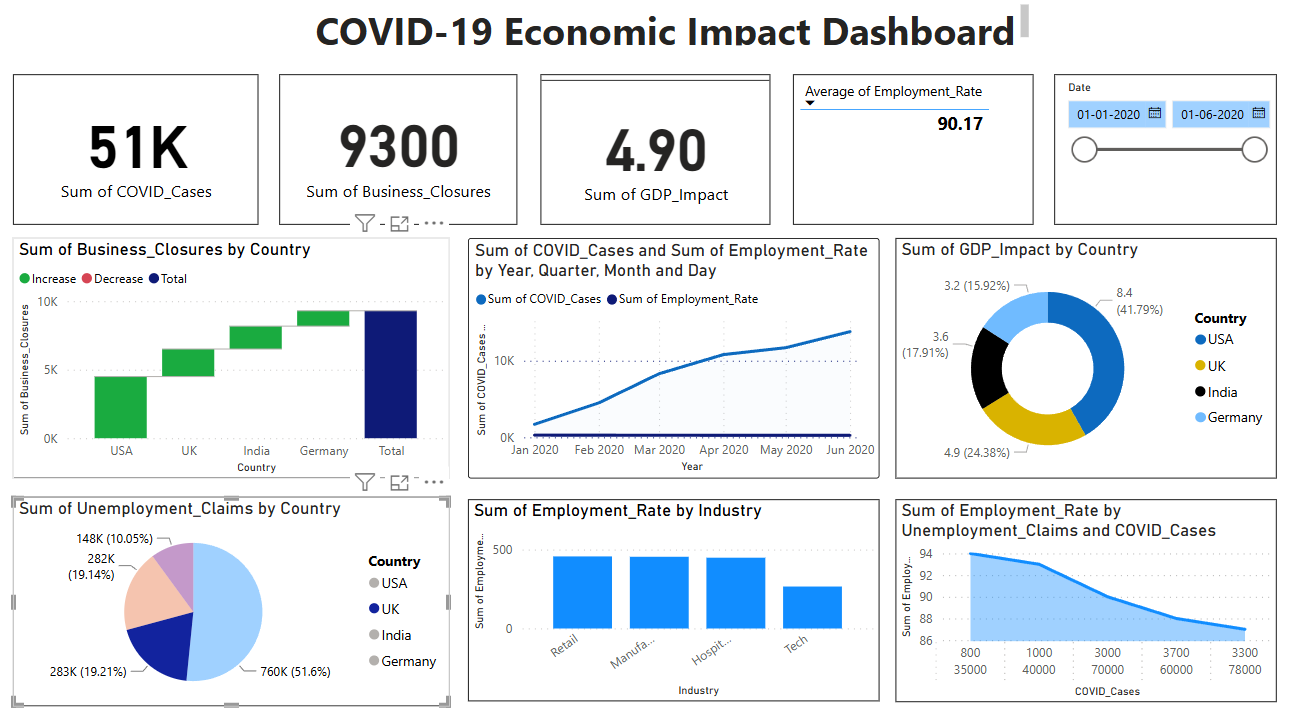

Layout of this report page (visuals, bound fields, positions):
{"tool":"powerbi","page":{"name":"Page 1","canvas":[1280,720],"ordinal":0},"visuals":[{"type":"card","fields":{"Values":["Sum(Sheet1.Business_Closures)"]},"box":[280,80,232.5,147.5],"z":0},{"type":"card","fields":{"Values":["Sum(Sheet1.COVID_Cases)"]},"box":[20,80,240,147.5],"z":1000},{"type":"tableEx","fields":{"Values":["Avg(Sheet1.Employment_Rate)"]},"box":[782.5,80,235,147.5],"z":2000},{"type":"areaChart","fields":{"Category":["Sheet1.Date.Variation.Date Hierarchy.Year","Sheet1.Date.Variation.Date Hierarchy.Quarter","Sheet1.Date.Variation.Date Hierarchy.Month","Sheet1.Date.Variation.Date Hierarchy.Day"],"Y":["Sum(Sheet1.COVID_Cases)","Sum(Sheet1.Employment_Rate)"]},"box":[465,240,402.5,235],"z":3000},{"type":"columnChart","fields":{"Category":["Sheet1.Industry"],"Y":["Sum(Sheet1.Employment_Rate)"]},"box":[465,495,402.5,197.5],"z":4000},{"type":"waterfallChart","fields":{"Category":["Sheet1.Country"],"Y":["Sum(Sheet1.Business_Closures)"]},"box":[20,240,427.5,235],"z":5000},{"type":"donutChart","fields":{"Category":["Sheet1.Country"],"Y":["Sum(Sheet1.GDP_Impact)"]},"box":[882.5,240,372.5,235],"z":6000},{"type":"slicer","fields":{"Values":["Sheet1.Date"]},"box":[1037.5,80,217.5,147.5],"z":7000},{"type":"textbox","box":[310,0,707.5,55],"z":8000},{"type":"pieChart","fields":{"Category":["Sheet1 (2).Country"],"Y":["Sum(Sheet1 (2).Unemployment_Claims)"]},"box":[20,492.5,427.5,205],"z":9000},{"type":"card","fields":{"Values":["Sum(Sheet1 (2).GDP_Impact)"]},"box":[535,80,225,147.5],"z":10000},{"type":"stackedAreaChart","fields":{"Category":["Sheet1 (2).Unemployment_Claims","Sheet1 (2).COVID_Cases"],"Y":["Sum(Sheet1 (2).Employment_Rate)"]},"box":[883,495,373,198],"z":11000}]}

Visuals, with their boxes in screenshot pixels (x1, y1, x2, y2), scaled from the page's 1280x720 canvas onto the 1301x727 screenshot:
card - Sum(Sheet1.Business_Closures): region(285, 81, 521, 230)
card - Sum(Sheet1.COVID_Cases): region(20, 81, 264, 230)
tableEx - Avg(Sheet1.Employment_Rate): region(795, 81, 1034, 230)
areaChart - Sheet1.Date.Variation.Date Hierarchy.Year x Sheet1.Date.Variation.Date Hierarchy.Quarter: region(473, 242, 882, 480)
columnChart - Sheet1.Industry x Sum(Sheet1.Employment_Rate): region(473, 500, 882, 699)
waterfallChart - Sheet1.Country x Sum(Sheet1.Business_Closures): region(20, 242, 455, 480)
donutChart - Sheet1.Country x Sum(Sheet1.GDP_Impact): region(897, 242, 1276, 480)
slicer - Sheet1.Date: region(1055, 81, 1276, 230)
textbox: region(315, 0, 1034, 56)
pieChart - Sheet1 (2).Country x Sum(Sheet1 (2).Unemployment_Claims): region(20, 497, 455, 704)
card - Sum(Sheet1 (2).GDP_Impact): region(544, 81, 772, 230)
stackedAreaChart - Sheet1 (2).Unemployment_Claims x Sheet1 (2).COVID_Cases: region(897, 500, 1277, 700)
